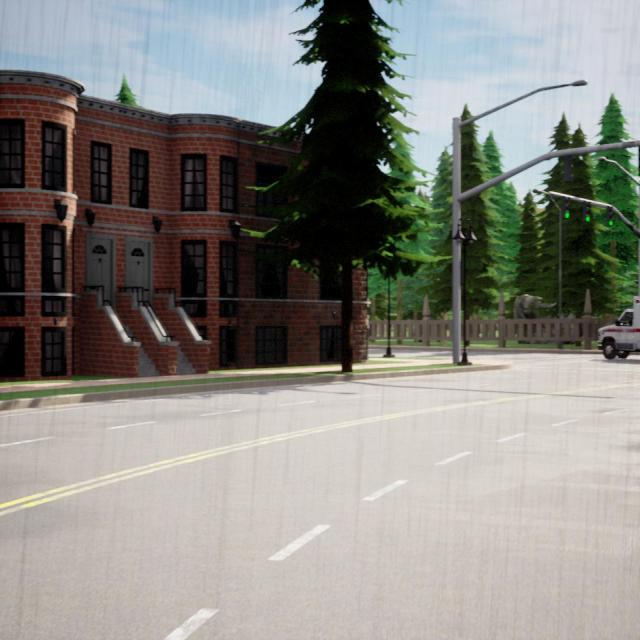Vehicle: (598, 296, 640, 359)
traffic_light: (564, 156, 573, 183), (606, 206, 614, 226), (563, 197, 570, 219), (583, 201, 590, 223)
